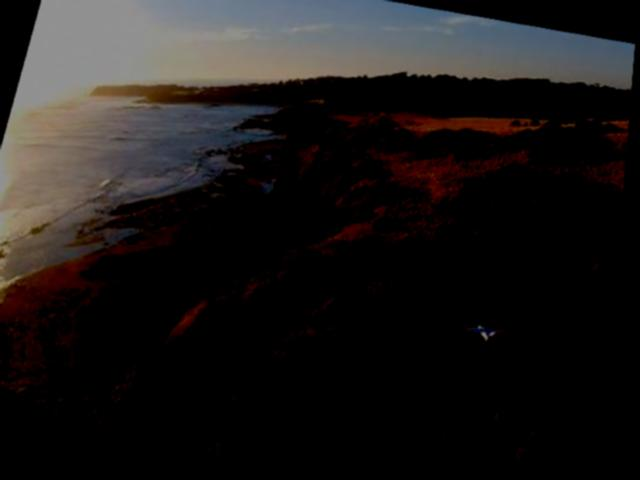uav: (465, 320, 514, 350)
